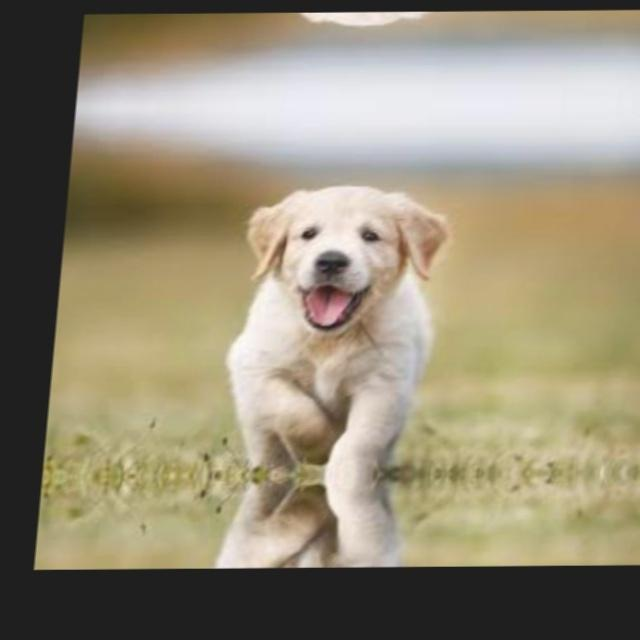dog: (186, 160, 479, 476), (178, 474, 451, 569), (225, 12, 493, 50)
